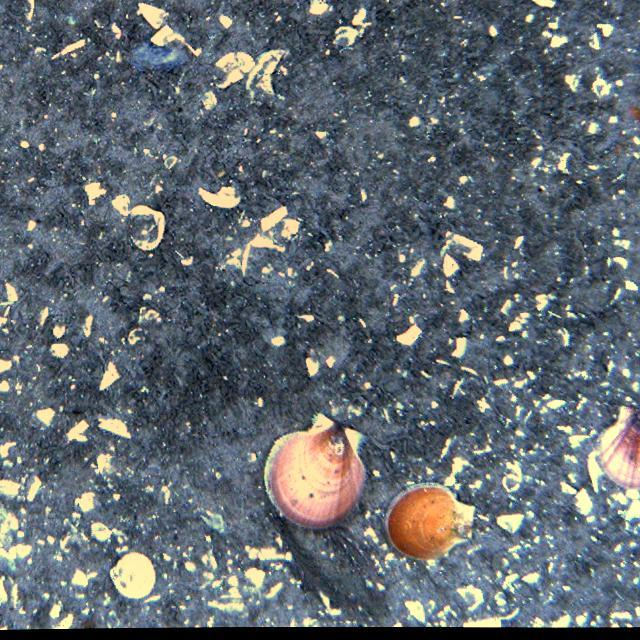scallop: (260, 408, 368, 524), (388, 484, 476, 562)
